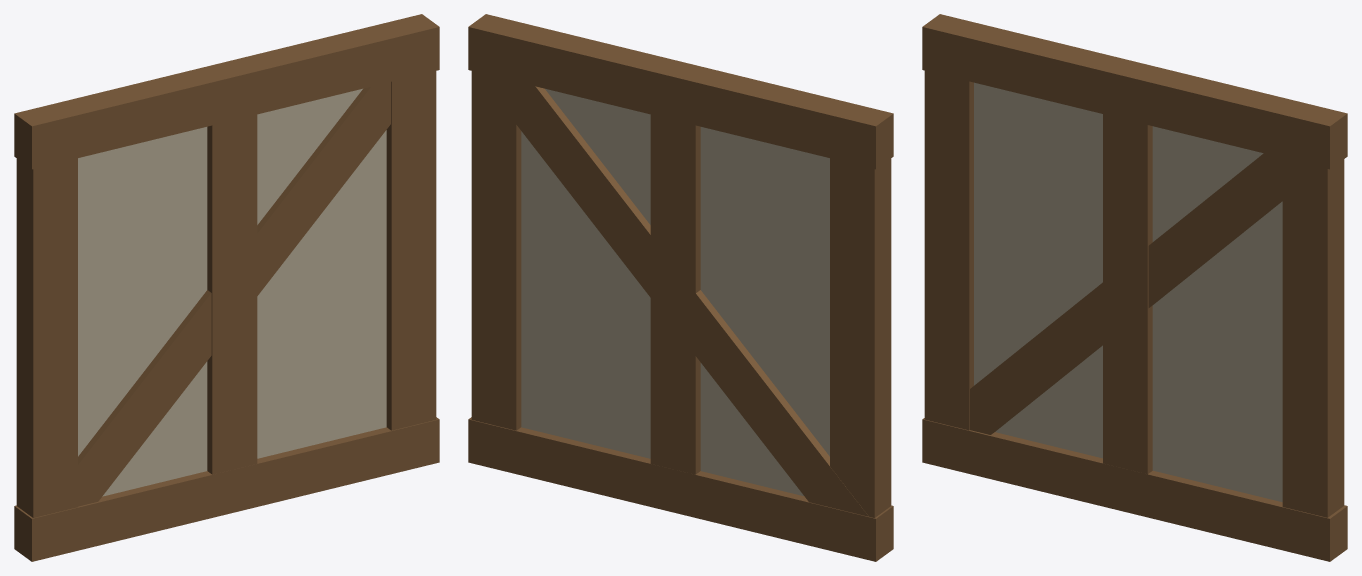
3 renders of one model, left to right at view 1: azimuth 30°, elevation 25°; view 2: azimuth 150°, elevation 25°; view 3: azimuth 330°, elevation 25°, orthographic.
Parts seen in each view (by area): view 1: Cube.001; view 2: Cube.001; view 3: Cube.001.
Part boxes in pixels (bbox=[...]): Cube.001: bbox=[14, 14, 439, 561]; Cube.001: bbox=[468, 14, 893, 561]; Cube.001: bbox=[922, 14, 1347, 561].
Size of the model in its own units: 207 by 212 by 15.54.
